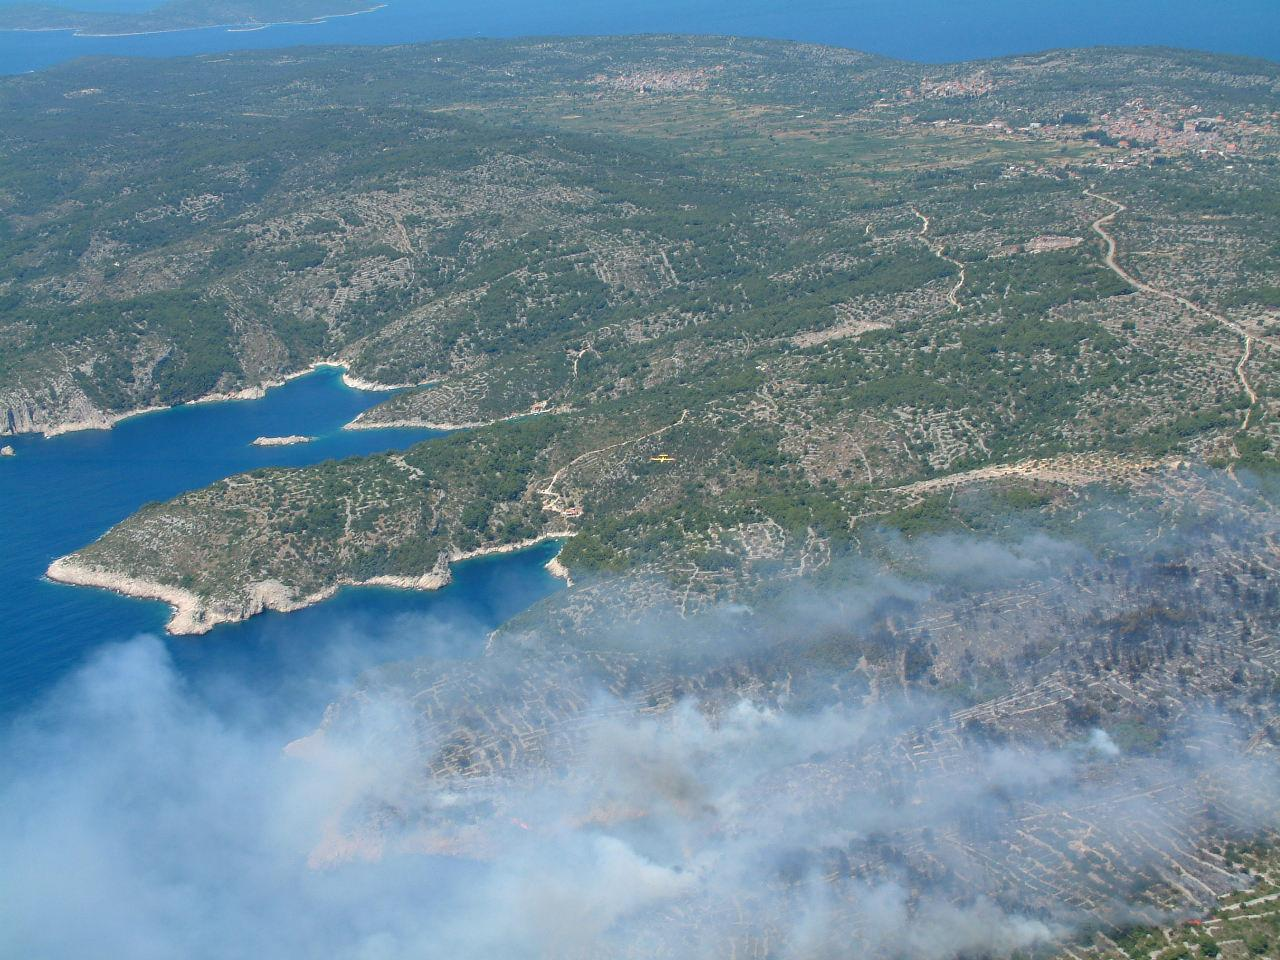Smoke: (1, 456, 1280, 959)
